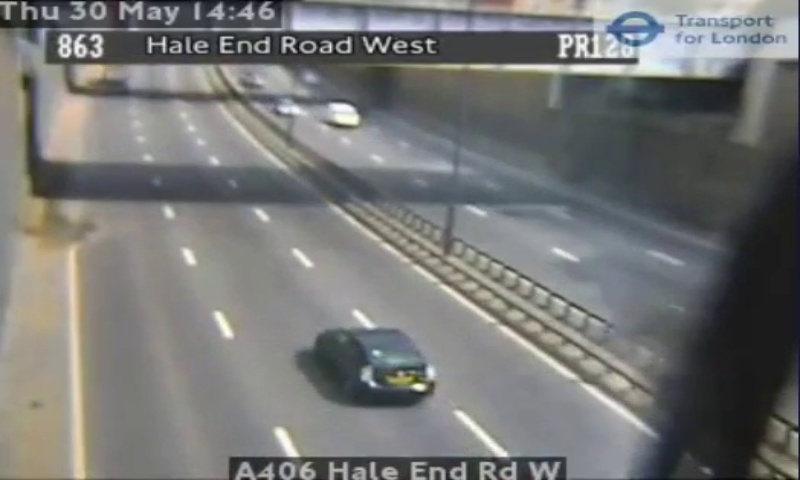car: (316, 328, 433, 402)
